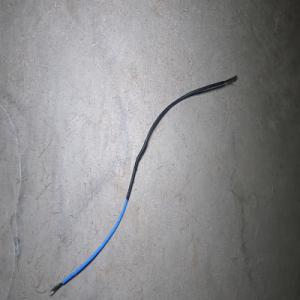Wire: (48, 73, 238, 295)
